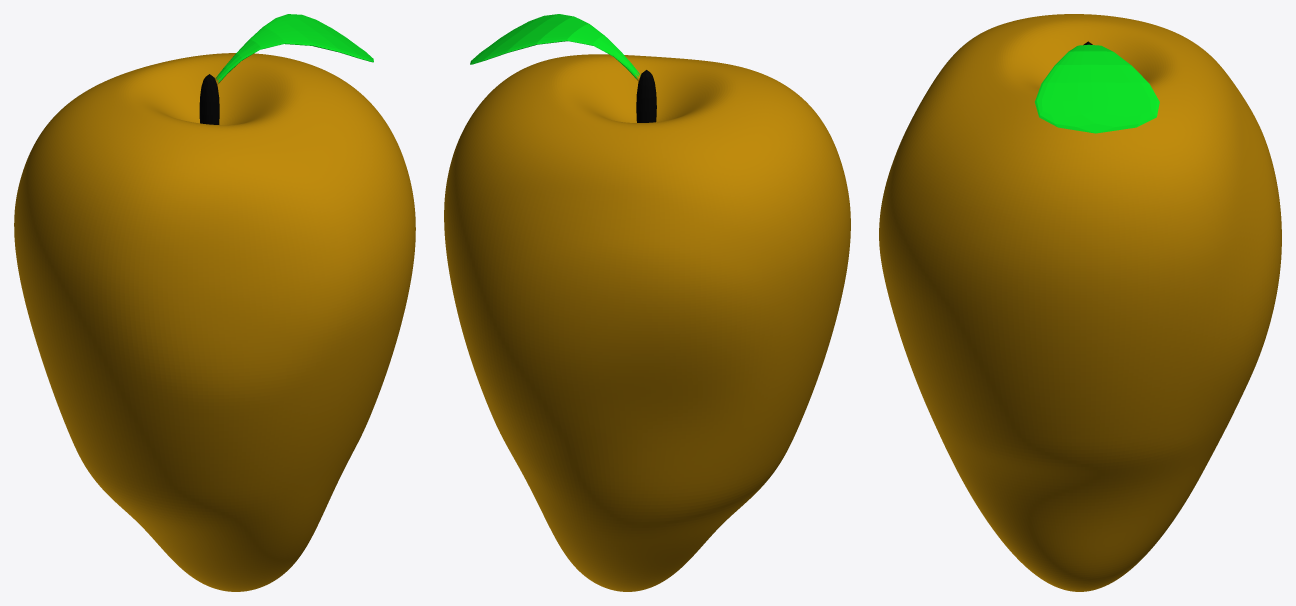
File: Mango.fbx
3 views of the same model, side by side, from view 1: azimuth 30°, elevation 25°; view 2: azimuth 150°, elevation 25°; view 3: azimuth 270°, elevation 25° (orthographic). The views are drawn at different scales.
Parts seen in each view (by area): view 1: Sphere; view 2: Sphere; view 3: Sphere.
Boxes of the visible parts, x1=… form: Sphere: x1=14, y1=14, x2=415, y2=591; Sphere: x1=444, y1=14, x2=850, y2=591; Sphere: x1=879, y1=14, x2=1281, y2=591.
Bounding box in the file's own units: 199 × 296 × 194.
